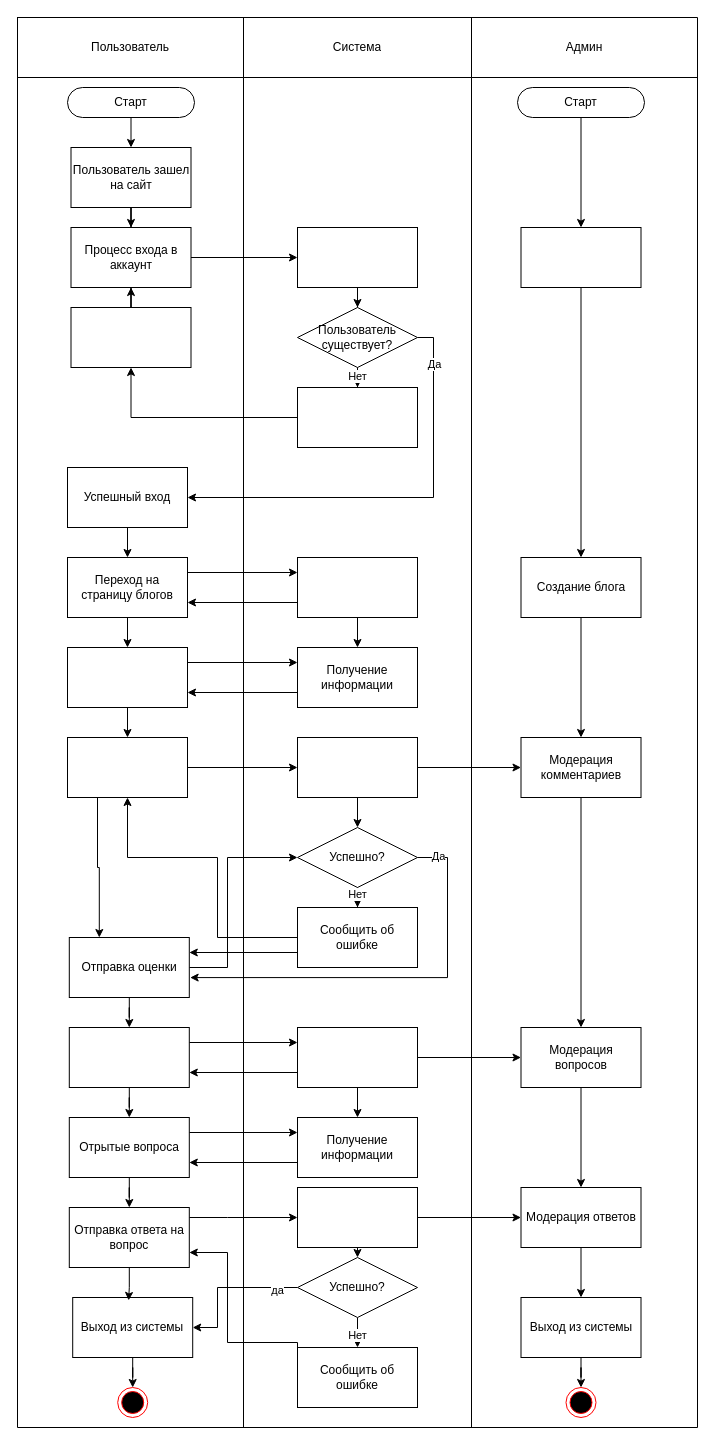
The diagram is 715 pixels wide and 1445 high, and some of its shapes have lost their labels. Here are the shapes that lost their labels. From the top down, the centre of each, then its label:
At point 357,257: "Проверка данных".
At point 580,257: "Процесс входа в админ-панель".
At point 130,337: "Пользователь регистрируется".
At point 357,417: "Отправка ошибки об несуществующем пользователе".
At point 357,587: "Получение блогов".
At point 127,677: "Открытие блога".
At point 127,767: "Отправка комментария".
At point 357,767: "Запись комментария в бд".
At point 128,1057: "Переход на страницу вопросов".
At point 357,1057: "Получение вопросов".
At point 357,1217: "Запись ответа в бд".
